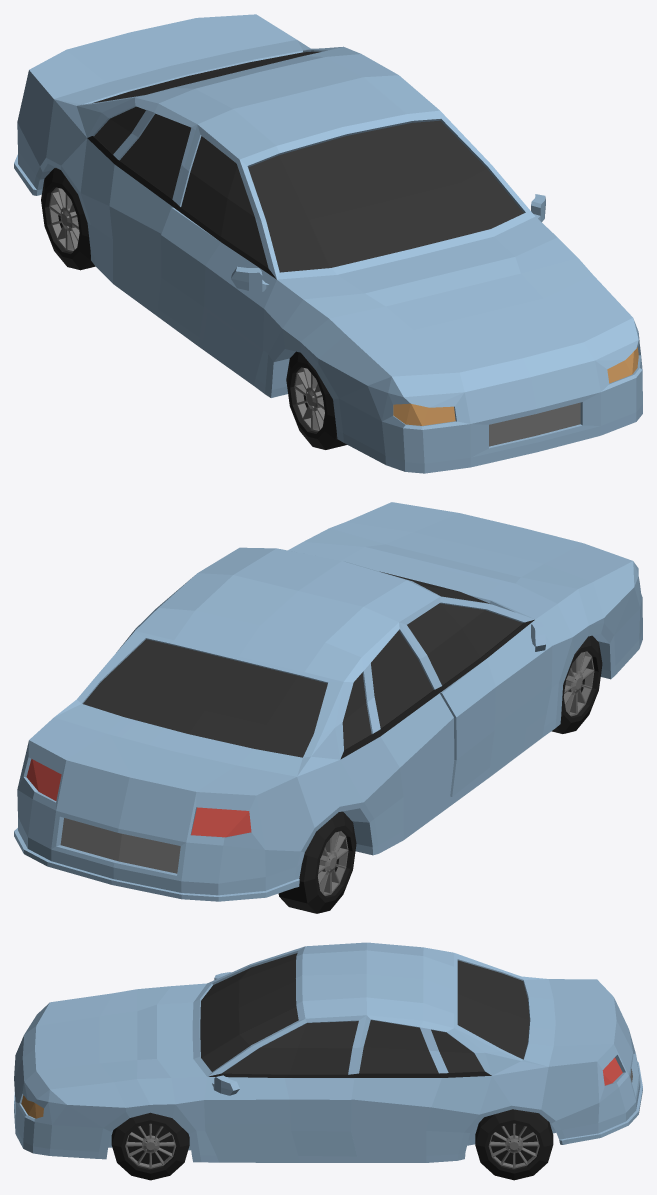
Rendered from NormalCar1.glb.
3 views of the same model, one above another, from view 1: azimuth 30°, elevation 25°; view 2: azimuth 150°, elevation 25°; view 3: azimuth 270°, elevation 25° (orthographic). The views are drawn at different scales.
Visible parts, largest first — view 1: NormalCar1.obj; view 2: NormalCar1.obj; view 3: NormalCar1.obj.
Boxes of the visible parts, x1=… form: NormalCar1.obj: x1=14, y1=14, x2=642, y2=473; NormalCar1.obj: x1=14, y1=502, x2=642, y2=913; NormalCar1.obj: x1=14, y1=942, x2=642, y2=1180.
Bounding box in the file's own units: 1.81 × 1.18 × 4.22.
